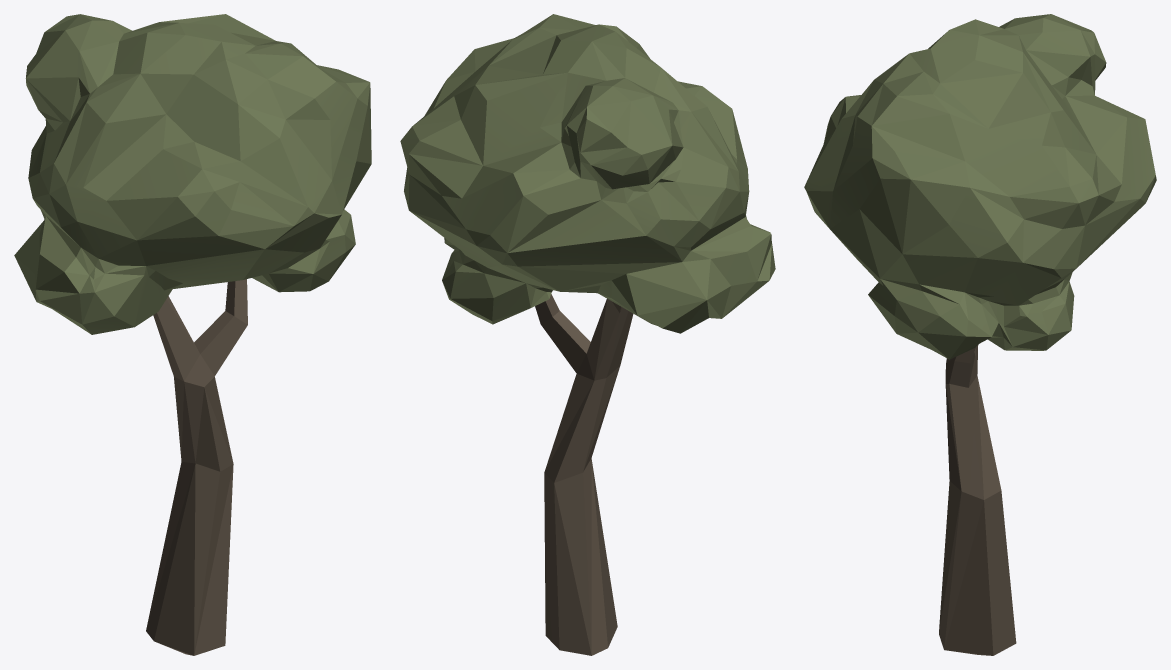
The model's file is Tree.fbx.
3 views of the same model, side by side, from view 1: azimuth 30°, elevation 25°; view 2: azimuth 150°, elevation 25°; view 3: azimuth 270°, elevation 25° (orthographic). The views are drawn at different scales.
Parts seen in each view (by area): view 1: SM_Generic_Tree_01__1_; view 2: SM_Generic_Tree_01__1_; view 3: SM_Generic_Tree_01__1_.
Part boxes in pixels (left/top/right/bottom): SM_Generic_Tree_01__1_: left=14, top=14, right=371, bottom=655; SM_Generic_Tree_01__1_: left=400, top=14, right=775, bottom=655; SM_Generic_Tree_01__1_: left=804, top=14, right=1156, bottom=655.
Size of the model in its own units: 302 by 550 by 284.
